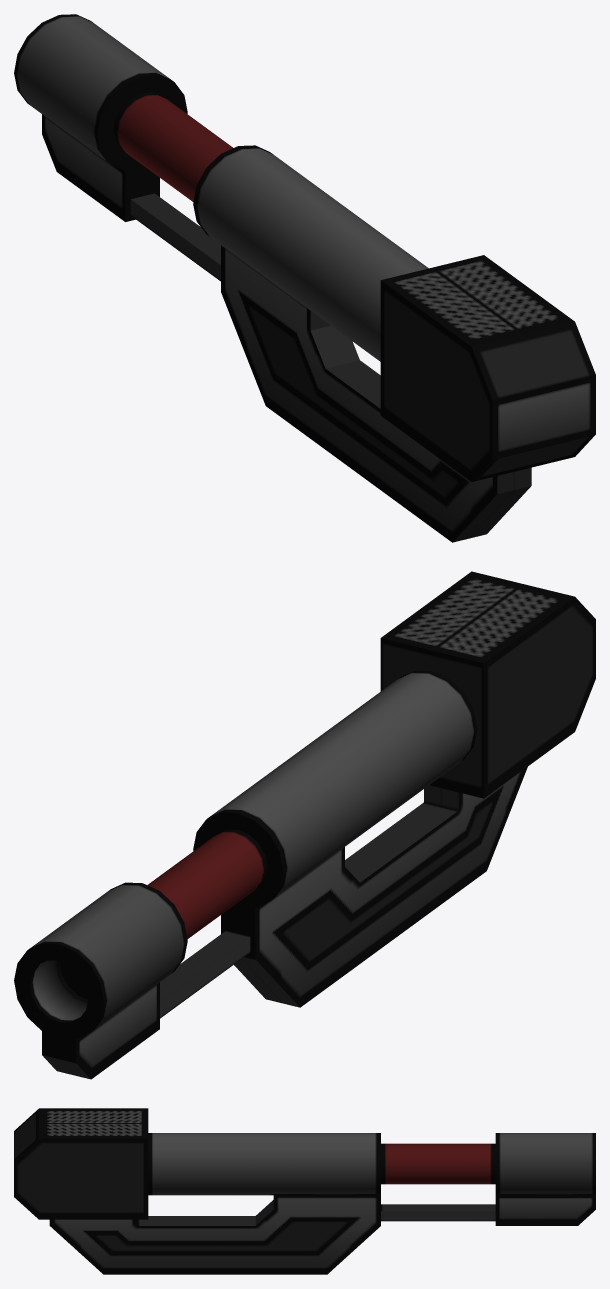
Rendered from demon_001_turrX_replacement.fbx.
3 views of the same model, one above another, from view 1: azimuth 30°, elevation 25°; view 2: azimuth 150°, elevation 25°; view 3: azimuth 270°, elevation 25° (orthographic). The views are drawn at different scales.
Visible parts, largest first — view 1: turret_x, recoil; view 2: turret_x, recoil; view 3: turret_x, recoil.
Part boxes in pixels (box(x1,y1,x2,y2)): turret_x: box(193, 145, 595, 542); recoil: box(14, 14, 233, 281); turret_x: box(193, 571, 595, 1007); recoil: box(14, 829, 267, 1079); turret_x: box(14, 1108, 380, 1274); recoil: box(381, 1133, 595, 1225).
Size of the model in its own units: 20 by 45 by 163.
